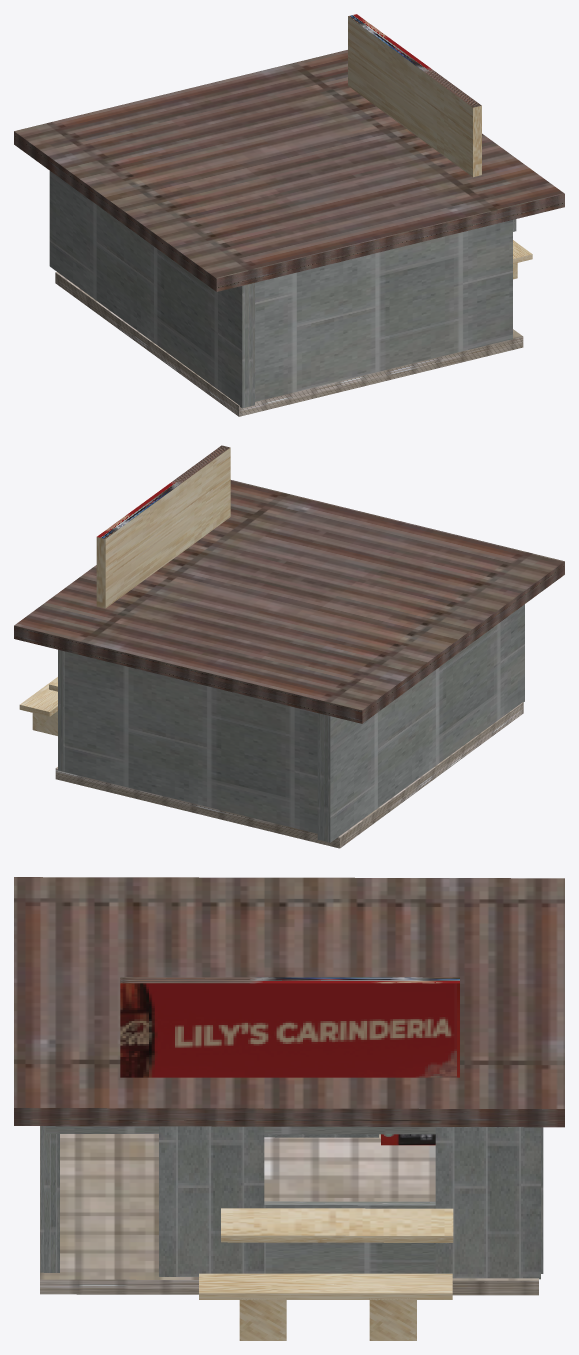
Rendered from Karindirya.fbx.
The picture shows the model from 3 angles, top to bottom: view 1: azimuth 30°, elevation 25°; view 2: azimuth 150°, elevation 25°; view 3: azimuth 270°, elevation 25°; orthographic projection. The views are drawn at different scales.
Visible parts, largest first — view 1: Cube.010; view 2: Cube.010, Cube.006; view 3: Cube.010, Cube.006, Cube.001.
Boxes of the visible parts, x1=… form: Cube.010: x1=14, y1=14, x2=564, y2=416; Cube.010: x1=14, y1=445, x2=564, y2=848; Cube.006: x1=19, y1=677, x2=57, y2=735; Cube.010: x1=14, y1=877, x2=564, y2=1295; Cube.006: x1=199, y1=1273, x2=452, y2=1340; Cube.001: x1=381, y1=1134, x2=435, y2=1145.
Bounding box in the file's own units: 1156 × 645 × 1057.
6 materials, 6 textured.
